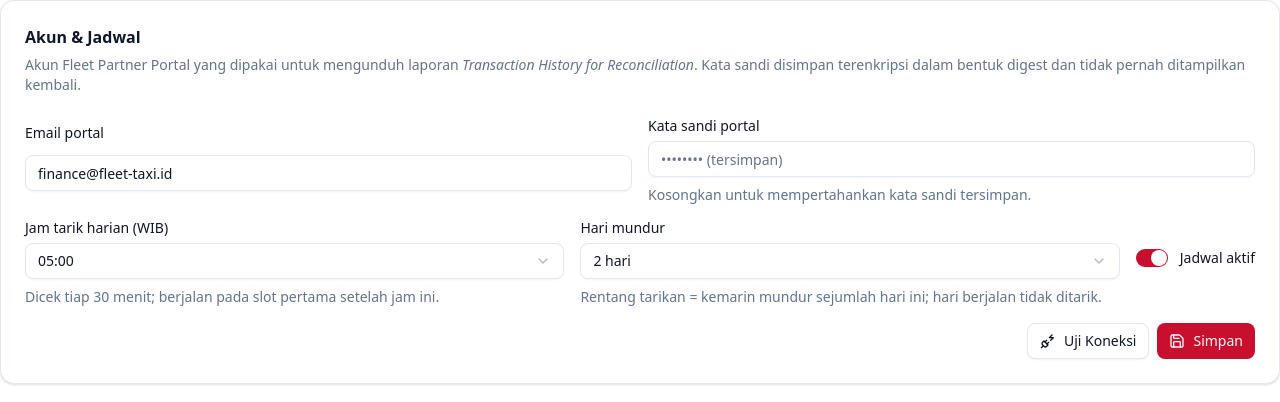
Scenario: SettingsForm › validates the email before hitting the API
The image size is (1280, 402).
Clear the field labelled "Email portal". click: (328, 173)
box: [25,155,632,191]
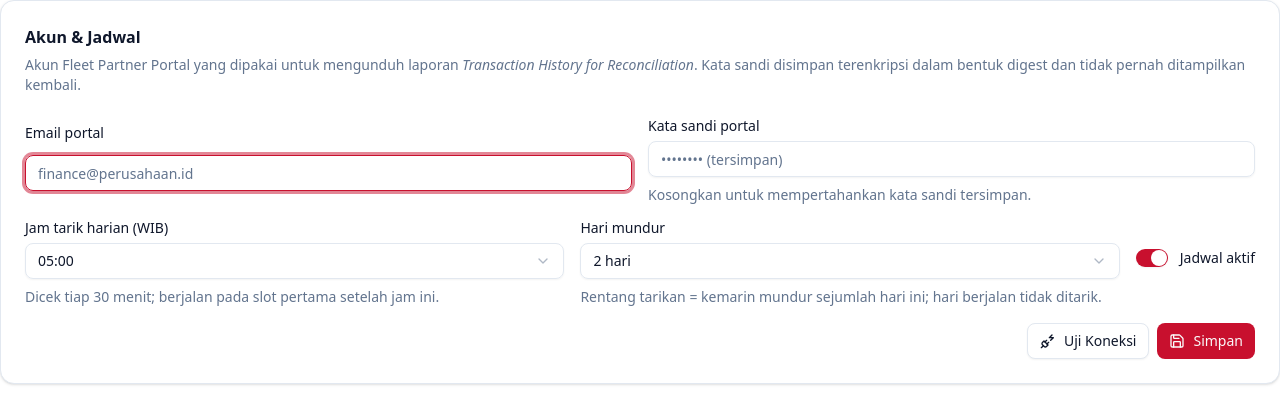
Click the button "Simpan". click: click(1206, 341)
box: [1158,323,1255,359]
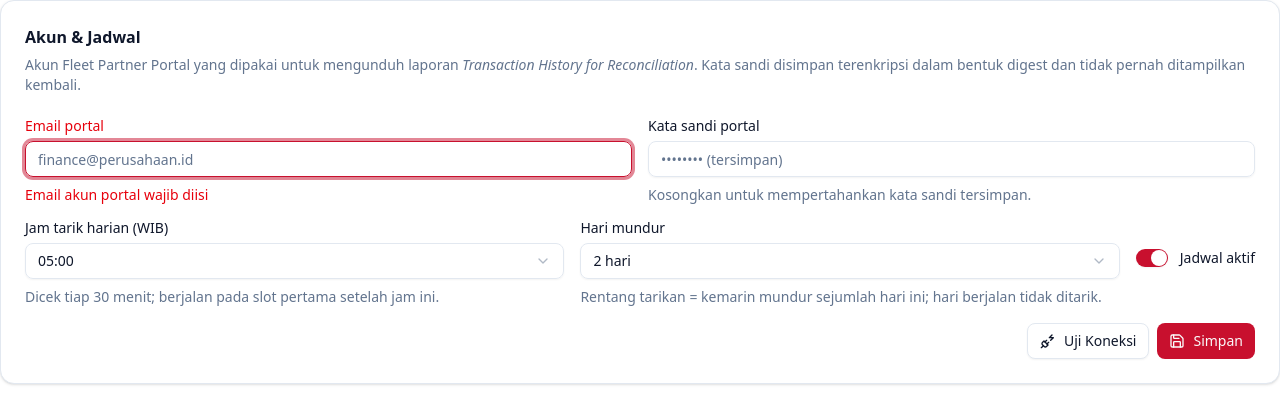
Check: the text "Email akun portal wajib diisi" is shown, box [25,185,208,204]
